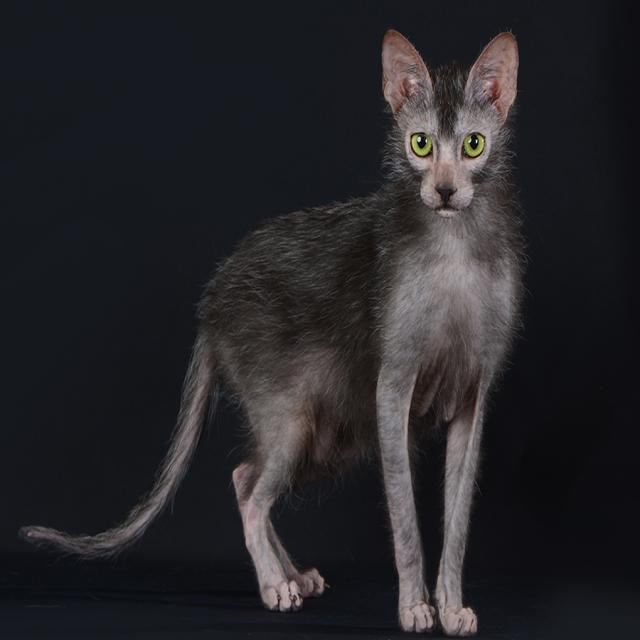Lykoi: (15, 25, 529, 640)
